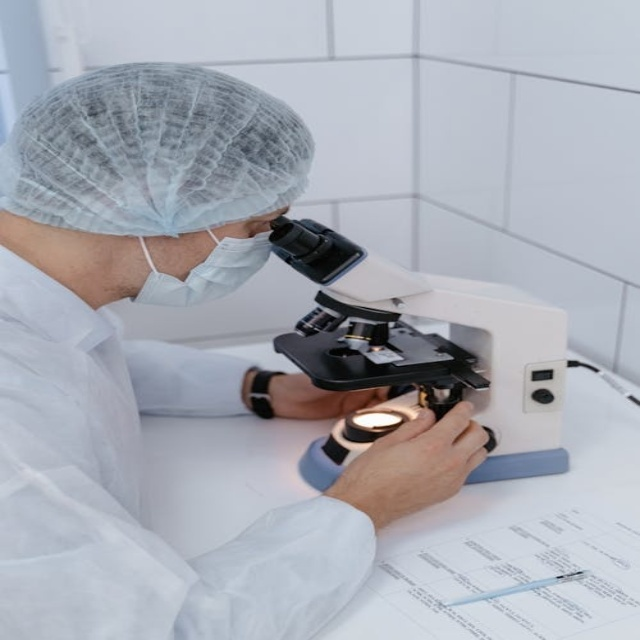Mascara: (131, 223, 278, 308)
Sin_gafas: (241, 207, 289, 239)
Sin_guantes: (330, 398, 492, 526), (242, 365, 394, 422)
